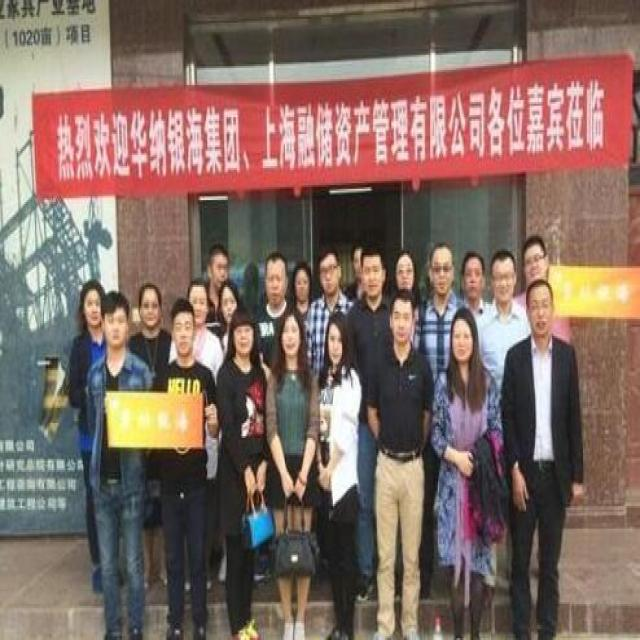no-helmet: (444, 302, 480, 376), (355, 232, 389, 306), (520, 276, 558, 342), (318, 310, 354, 376), (229, 302, 263, 368), (488, 244, 521, 308), (388, 287, 419, 355), (425, 238, 457, 302), (521, 232, 554, 293), (98, 289, 130, 351), (74, 276, 106, 336), (316, 243, 347, 304), (260, 245, 290, 308), (274, 302, 304, 364), (136, 279, 167, 338), (166, 302, 199, 355), (460, 245, 488, 302), (390, 243, 420, 294), (206, 240, 231, 291), (186, 278, 210, 326), (215, 278, 238, 328), (289, 260, 312, 308)
